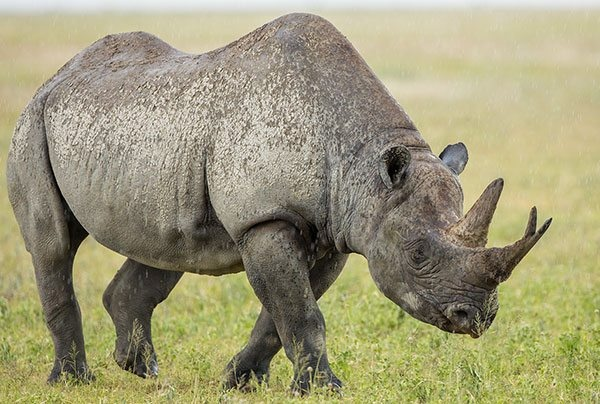rhino: (4, 12, 552, 401)
